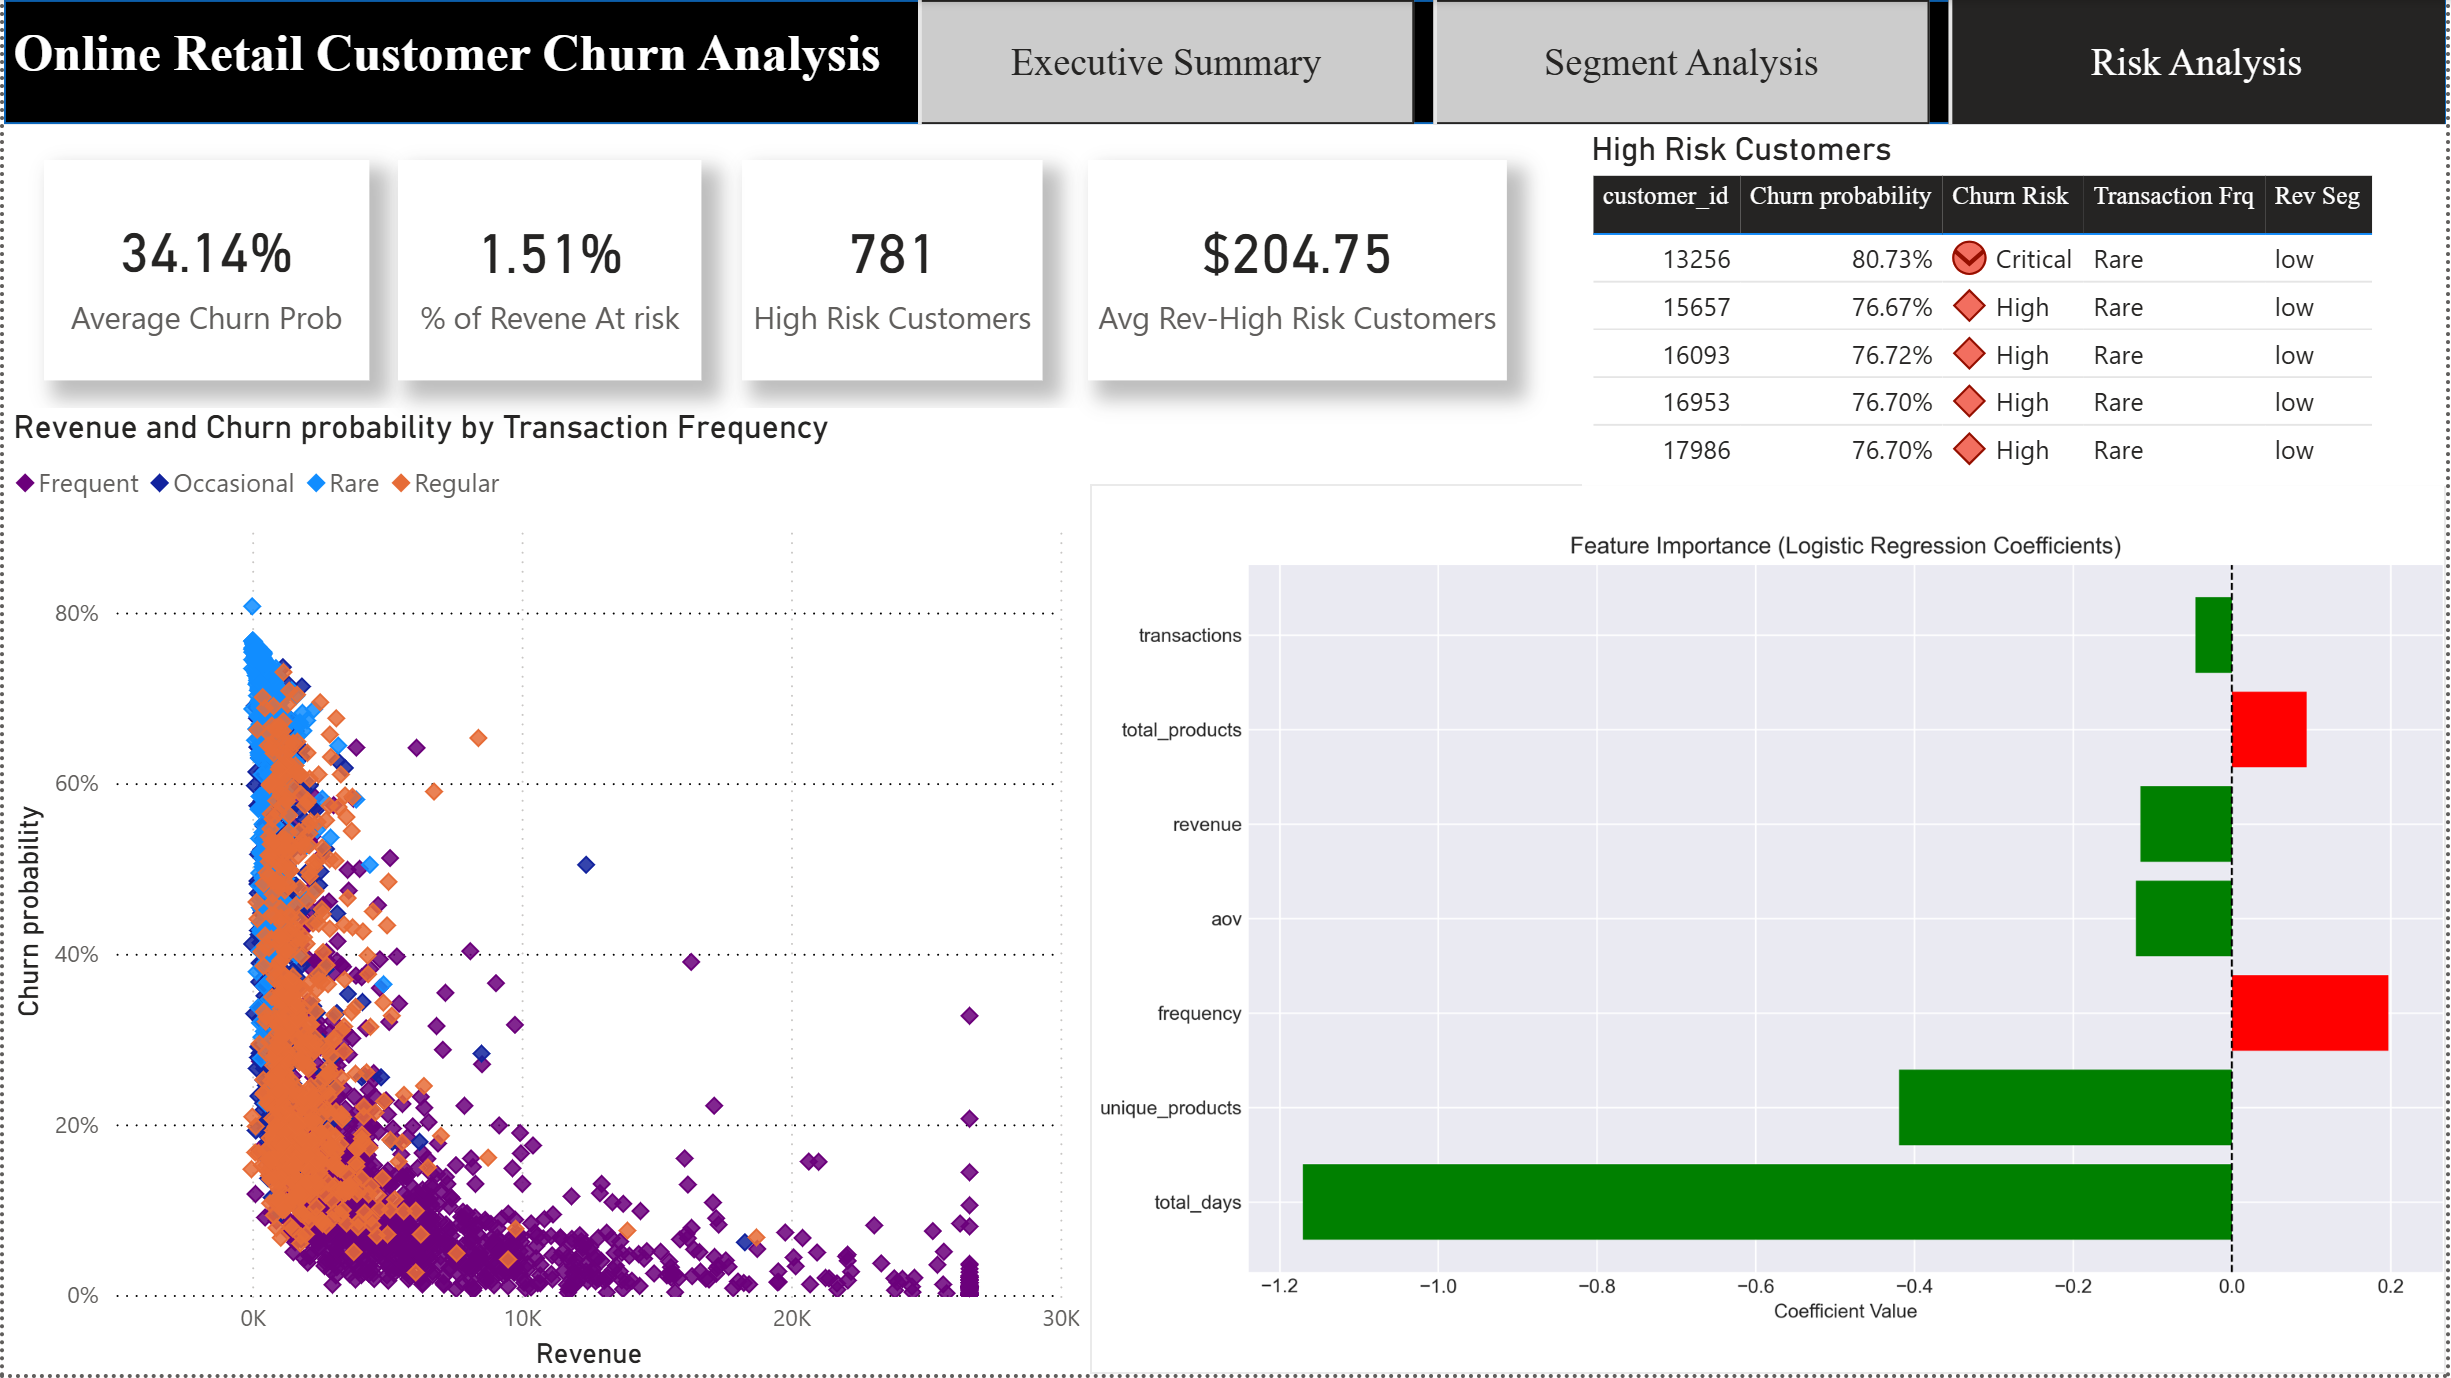

Layout of this report page (visuals, bound fields, positions):
{"tool":"powerbi","page":{"name":"Risk Analysis","canvas":[1280,720],"ordinal":2},"visuals":[{"type":"shape","box":[0,0,1280,65],"z":0},{"type":"textbox","box":[0,6.9,499.9,48.1],"z":1000},{"type":"pageNavigator","box":[479.3,0,800.7,65],"z":2000},{"type":"card","title":"Top Revenue Segment By churn","fields":{"Values":["customer_risk_scores.Avg_chun_prob"]},"box":[20.6,83.8,170.3,115.4],"z":5000},{"type":"card","title":"Top Revenue Segment By churn","fields":{"Values":["CountNonNull(online_retail_churn_final.customer_id)"]},"box":[387,83.8,157.5,115.6],"z":6000},{"type":"scatterChart","title":"Revenue and Churn probability by Transaction Frequency","fields":{"X":["Sum(online_retail_churn_final.revenue)"],"Y":["Sum(customer_risk_scores.churn_probability)"],"Category":["online_retail_churn_final.customer_id"],"Series":["online_retail_churn_final.trans_seg"]},"box":[0,214.2,568.6,508.2],"z":7000},{"type":"image","box":[568.6,254.1,711.4,465.6],"z":8000},{"type":"card","title":"Top Revenue Segment By churn","fields":{"Values":["online_retail_churn_final.avg rev At Risk"]},"box":[568,83.8,219.5,115.6],"z":9000},{"type":"card","title":"Top Revenue Segment By churn","fields":{"Values":["online_retail_churn_final.% of Revene At risk"]},"box":[206.1,83.8,159.2,115.6],"z":10000},{"type":"tableEx","title":"High Risk Customers","fields":{"Values":["online_retail_churn_final.customer_id","Sum(customer_risk_scores.churn_probability)","customer_risk_scores.Churn Risk","online_retail_churn_final.trans_seg","online_retail_churn_final.rev_seg"]},"box":[826.4,67.7,453.6,186.4],"z":11000}]}

Visuals, with their boxes in screenshot pixels (x1, y1, x2, y2), scaled from the page's 1280x720 canvas onto the 2451x1378 screenshot:
shape: 0,0,2450,124
textbox: 0,13,957,105
pageNavigator: 918,0,2450,124
"Top Revenue Segment By churn" card: 39,160,366,381
"Top Revenue Segment By churn" card: 741,160,1043,382
"Revenue and Churn probability by Transaction Frequency" scatterChart: 0,410,1089,1377
image: 1089,486,2450,1377
"Top Revenue Segment By churn" card: 1088,160,1508,382
"Top Revenue Segment By churn" card: 395,160,699,382
"High Risk Customers" tableEx: 1582,130,2450,486
